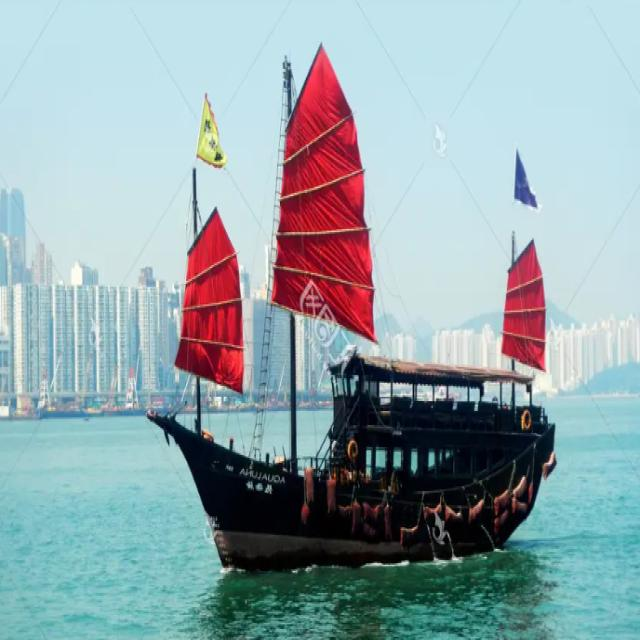houseboat: (150, 91, 558, 573)
